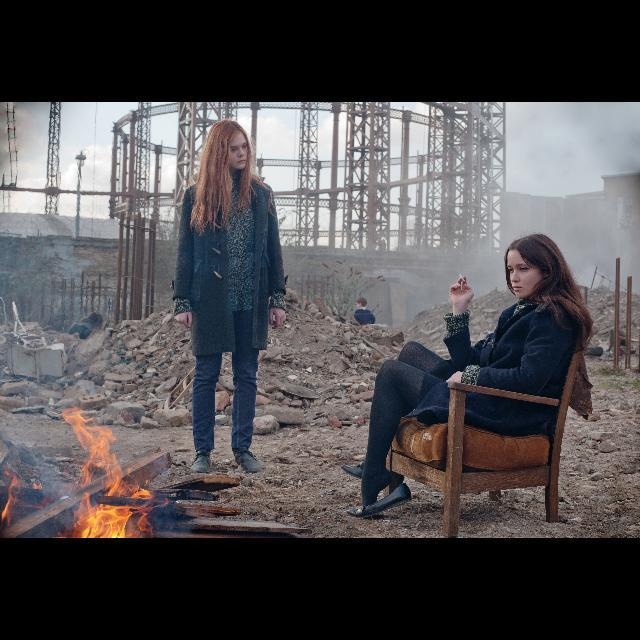rokok: (456, 270, 466, 284)
